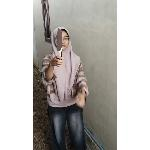Pisau: (54, 26, 70, 66)
